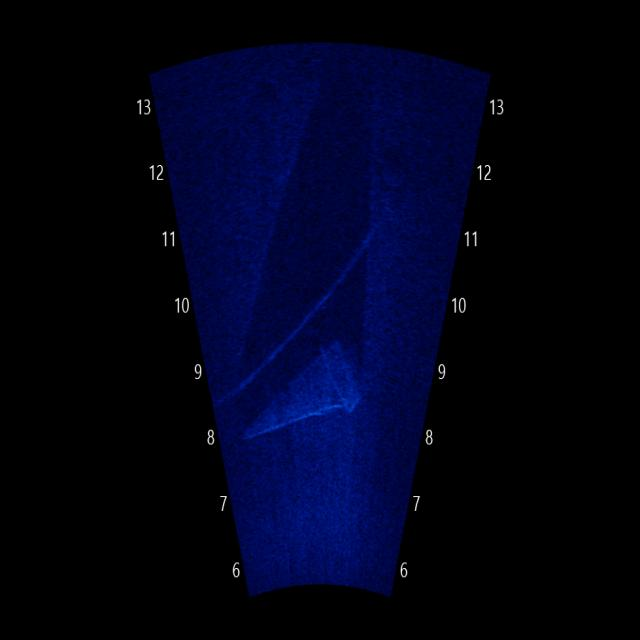triangle: (238, 326, 375, 454)
